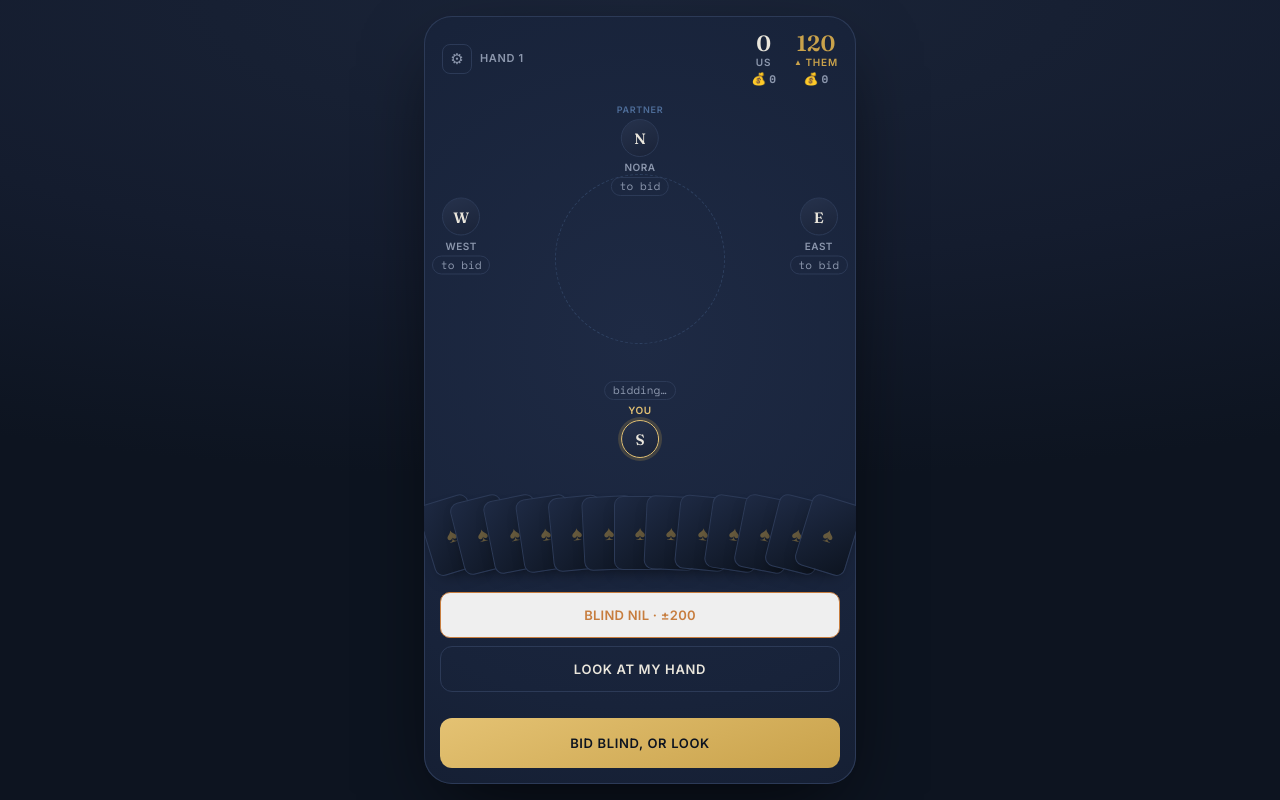
board Blind Nil (authentic, hidden hand) › "Look at my hand" reveals the bid grid and drops Blind Nil
Click the button "Look at my hand".
click(640, 669)  # box top-left (440, 646), bottom-right (840, 692)
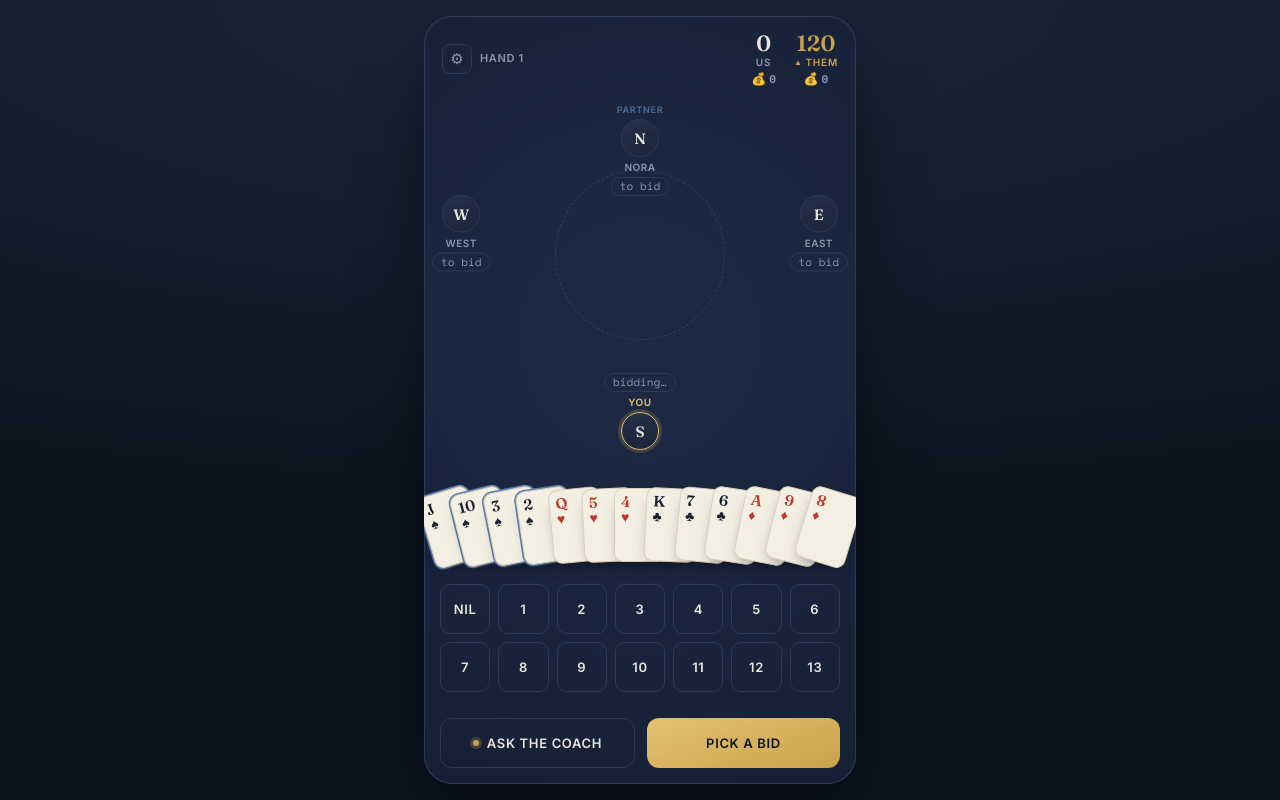
Now the button named "Bid 3" is shown, box top-left (615, 584), bottom-right (665, 634)
Now the button "Blind Nil" is gone
Now no elements with class "back" are shown
